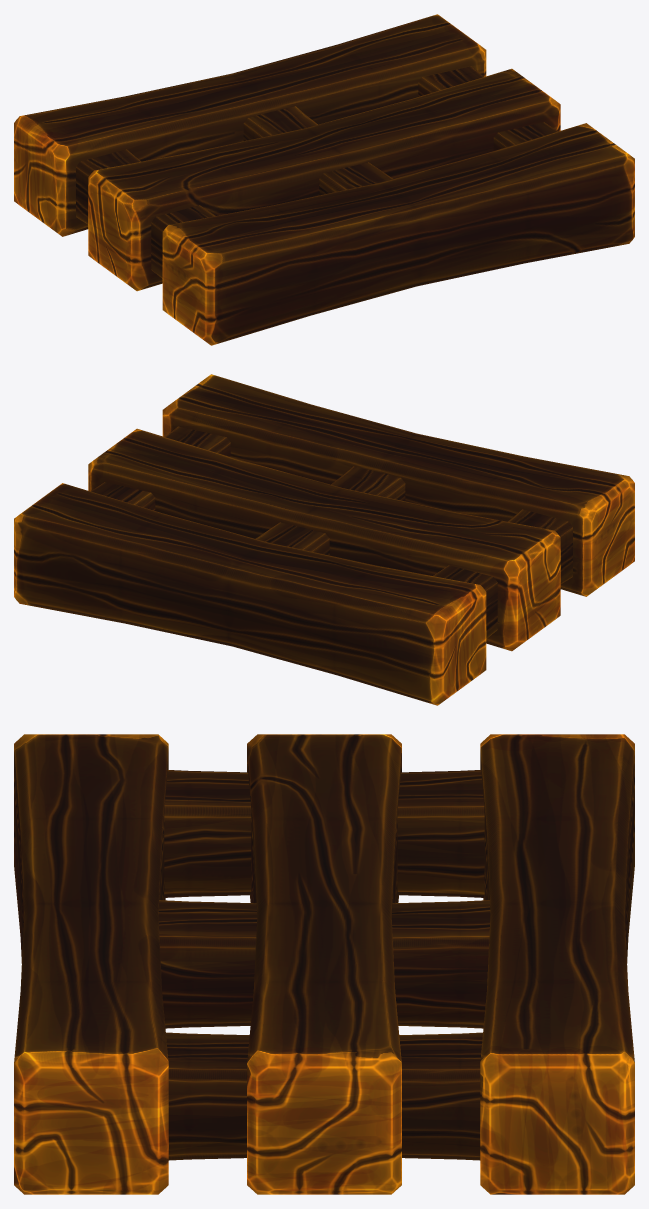
Rendered from stylized_low-poly_wooden_pallet.glb.
3 views of the same model, one above another, from view 1: azimuth 30°, elevation 25°; view 2: azimuth 150°, elevation 25°; view 3: azimuth 270°, elevation 25° (orthographic). The views are drawn at different scales.
Parts seen in each view (by area): view 1: Cube.004; view 2: Cube.004; view 3: Cube.004.
Part boxes in pixels (x1,y1,x2,y2): Cube.004: (14,14,634,345); Cube.004: (14,374,634,705); Cube.004: (14,734,634,1194).
Size of the model in its own units: 10 by 1.99 by 7.99.
1 material, 1 textured.
